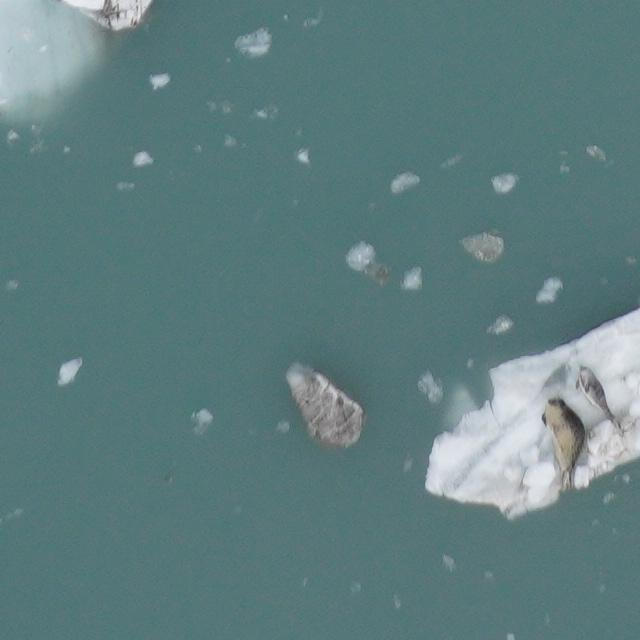seal: (536, 392, 589, 498), (573, 361, 628, 436)
